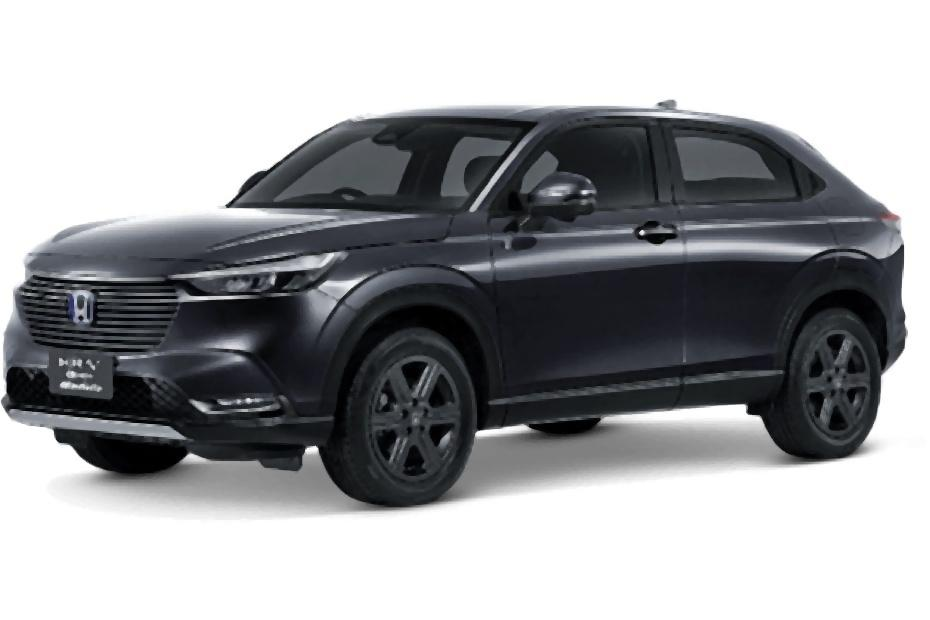Car hood: (17, 194, 460, 283)
Fender - -F-L-: (316, 203, 514, 442)
Fender - -R-L-: (772, 196, 901, 407)
Front bumper: (0, 287, 363, 476)
Headlight - -L-: (150, 237, 354, 314)
Passenger-s door - -F-L-: (484, 107, 690, 401)
Passenger-s door - -R-L-: (669, 113, 847, 393)
Rear bumper: (875, 297, 916, 386)
Rear light - -L-: (873, 199, 913, 239)
Side bumper - -L-: (477, 352, 812, 435)
Side mirror - -L-: (522, 160, 600, 240)
Side mirror - -R-: (230, 157, 288, 196)
